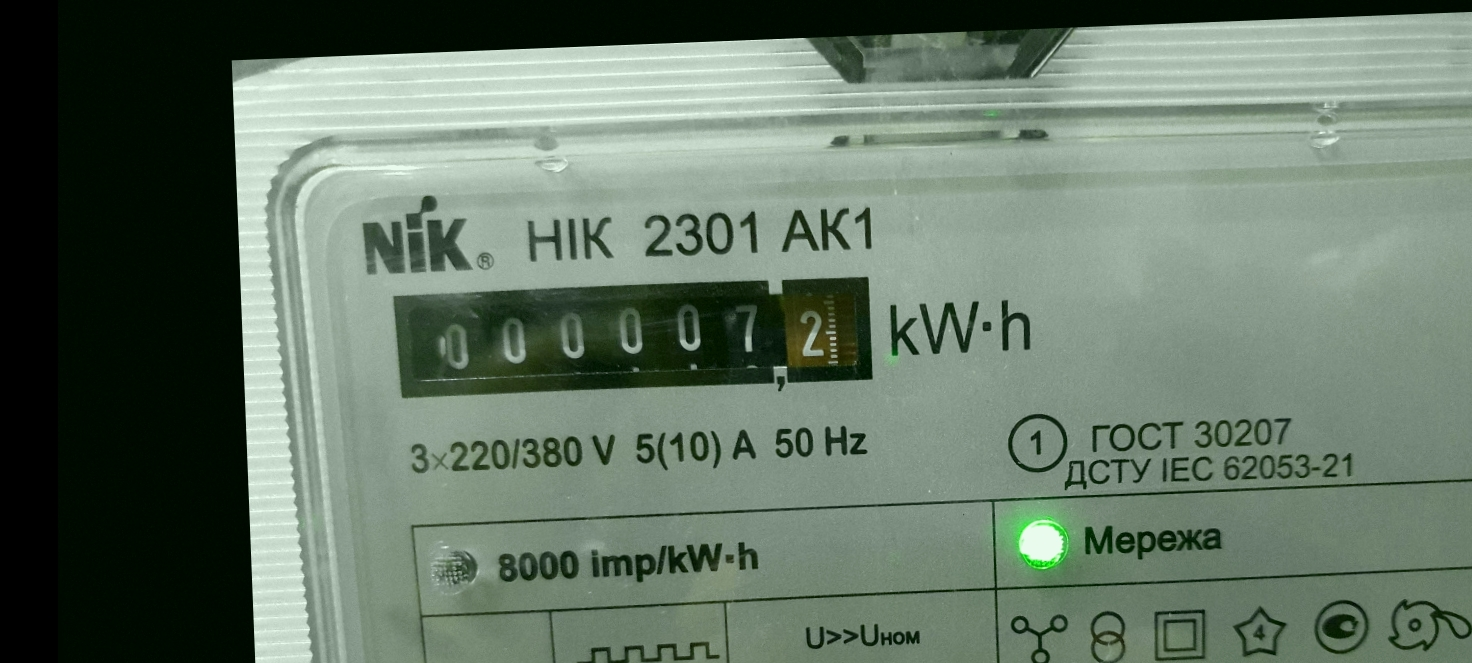0: (496, 312, 533, 366), (672, 301, 706, 355), (614, 302, 647, 357), (440, 319, 474, 371), (557, 307, 589, 361)
2: (796, 307, 829, 359)
7: (731, 300, 763, 355)
screen: (375, 257, 894, 418)
